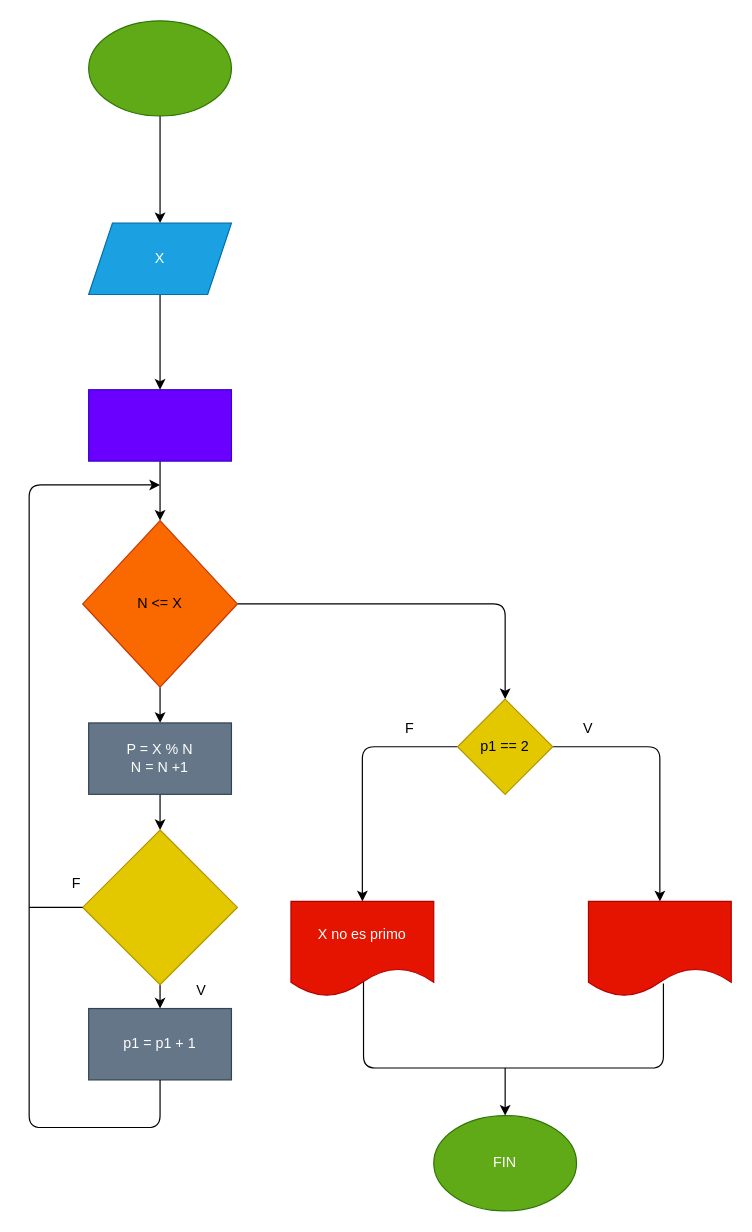
Image size: 752x1232. Some labels were removed from this diagram. Each missing label, with the box of its shape:
INICIO: (87, 20, 231, 116)
N = 1 p1 = 0: (87, 389, 231, 461)
P == 0: (82, 829, 237, 985)
X es primo: (587, 900, 731, 997)
